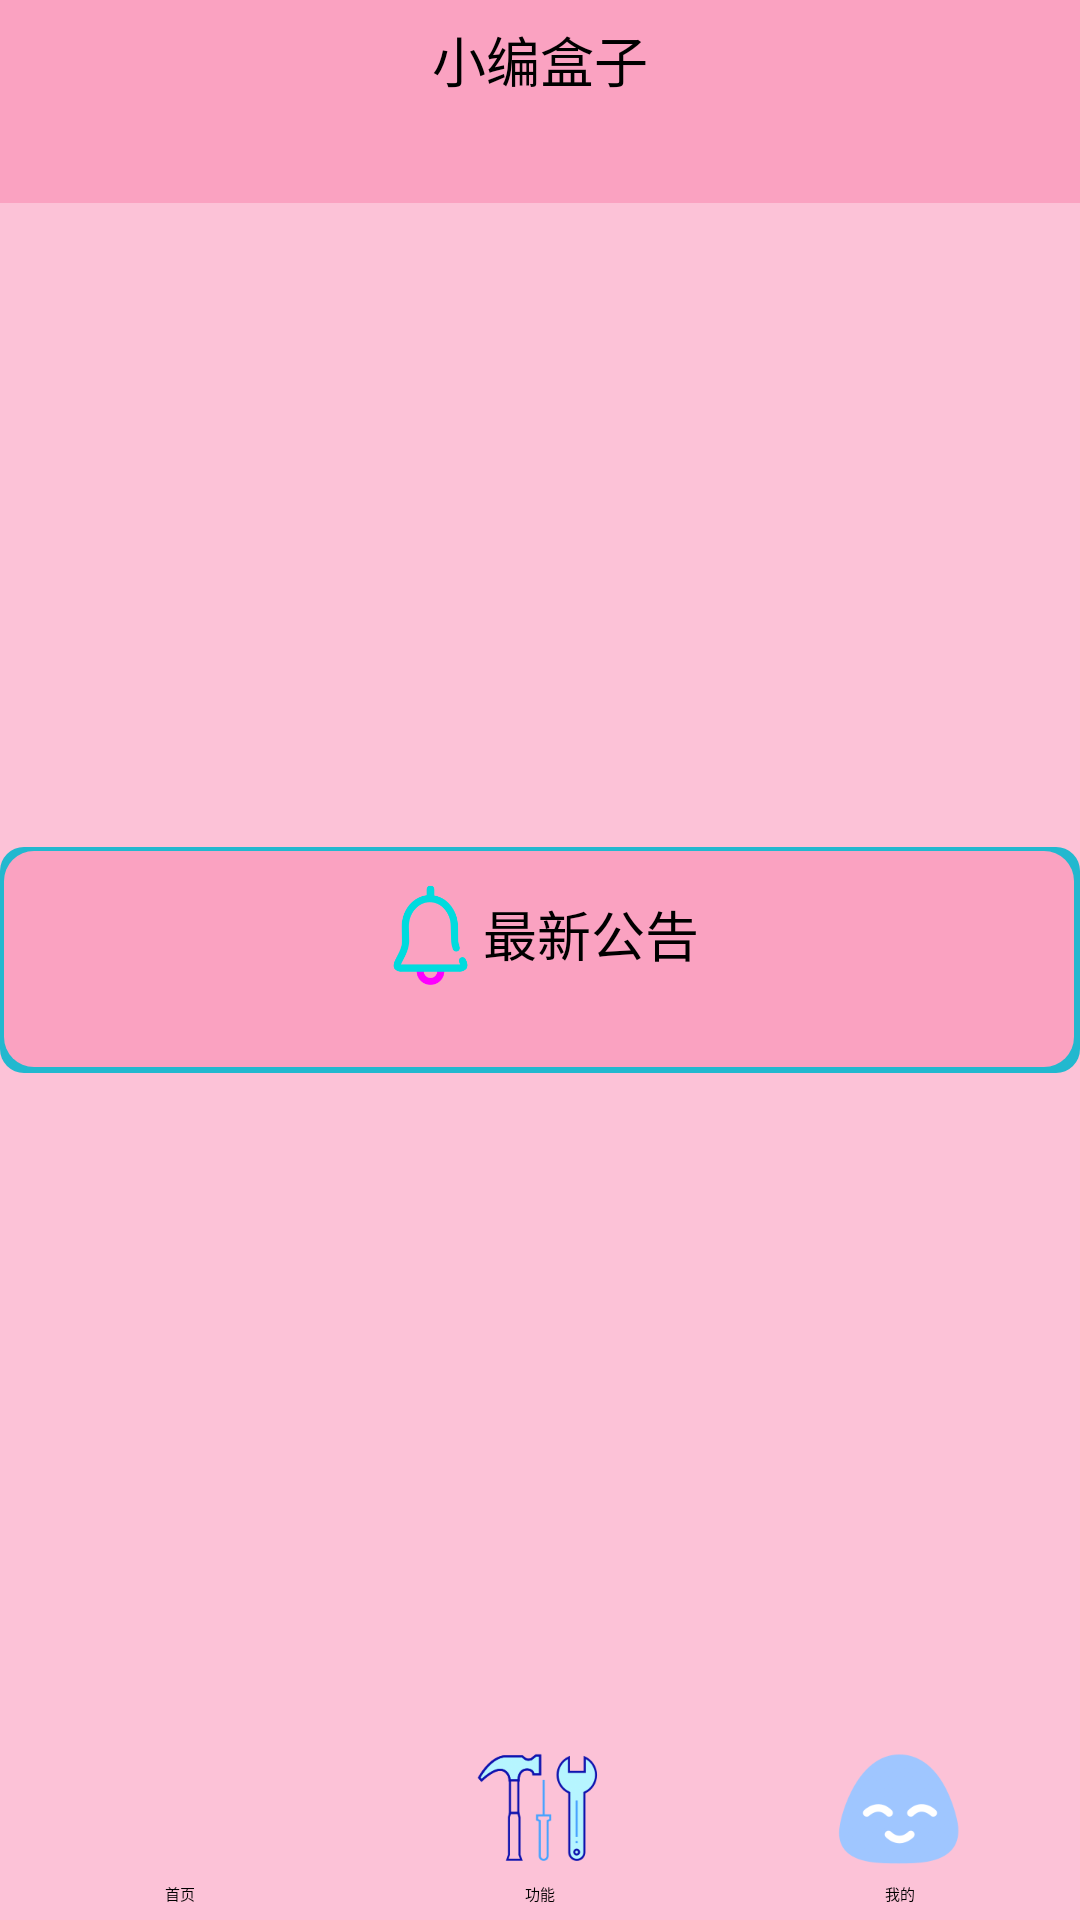

Locate icon controls on the screen. Image size 1080px x 1920px, boxes as (x1, y1, x2, y2).
notice: (393, 886, 468, 985)
